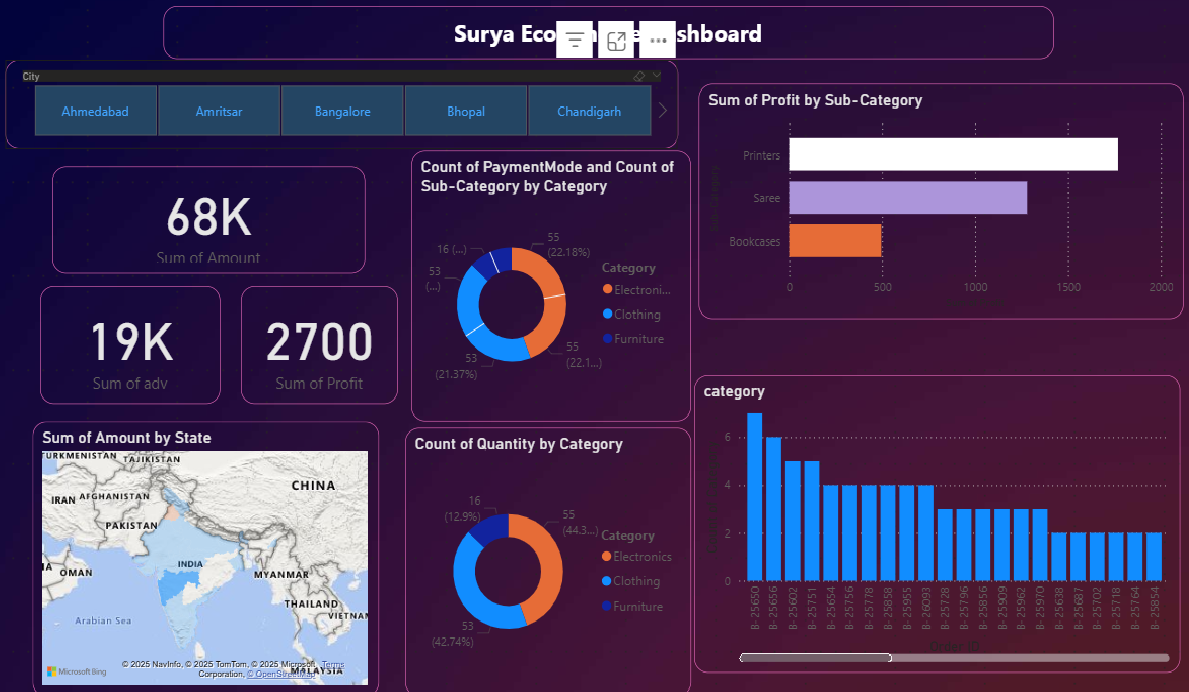

Layout of this report page (visuals, bound fields, positions):
{"tool":"powerbi","page":{"name":"Page 1","canvas":[1280,720],"ordinal":0},"visuals":[{"type":"textbox","box":[177.6,13.2,952.4,54.8],"z":0},{"type":"columnChart","title":"category","fields":{"Category":["Orders.Order ID Hierarchy.Order ID"],"Y":["Details.Category"]},"box":[744.6,391.2,519.7,304.3],"z":1000},{"type":"barChart","fields":{"Y":["Details.Profit"],"Category":["Details.Sub-Category"]},"box":[749.3,93.4,518.8,240.9],"z":2000},{"type":"donutChart","fields":{"Category":["Details.Category"],"Y":["Details.Quantity"]},"box":[436.1,444.2,305.9,275],"z":3000},{"type":"card","fields":{"Values":["Details.Amount"]},"box":[58.6,177.6,334.5,109.6],"z":4000},{"type":"card","fields":{"Values":["Details.Profit"]},"box":[260.8,298.6,168.2,120.9],"z":5000},{"type":"card","fields":{"Values":["Details.adv"]},"box":[45.4,298.6,192.8,120.9],"z":6000},{"type":"donutChart","fields":{"Category":["Details.Category"],"Y":["Details.PaymentMode","Details.Sub-Category"]},"box":[442.6,161.1,299.4,276.6],"z":7000},{"type":"filledMap","fields":{"Category":["Orders.State"]},"box":[37.8,438.4,370.4,281.6],"z":8000},{"type":"slicer","fields":{"Values":["Orders.City"]},"box":[7.6,68,720,90.7],"z":9000}]}

Visuals, with their boxes on the page's 1280x720 design canvas (x1, y1, x2, y2). These are canvas units, not pixel positions in the 1189x692 screenshot, which may show the page scaled, cropped or inside an application window:
textbox: locate(178, 13, 1130, 68)
"category" columnChart: locate(745, 391, 1264, 696)
barChart - Details.Profit x Details.Sub-Category: locate(749, 93, 1268, 334)
donutChart - Details.Category x Details.Quantity: locate(436, 444, 742, 719)
card - Details.Amount: locate(59, 178, 393, 287)
card - Details.Profit: locate(261, 299, 429, 420)
card - Details.adv: locate(45, 299, 238, 420)
donutChart - Details.Category x Details.PaymentMode: locate(443, 161, 742, 438)
filledMap - Orders.State: locate(38, 438, 408, 720)
slicer - Orders.City: locate(8, 68, 728, 159)
